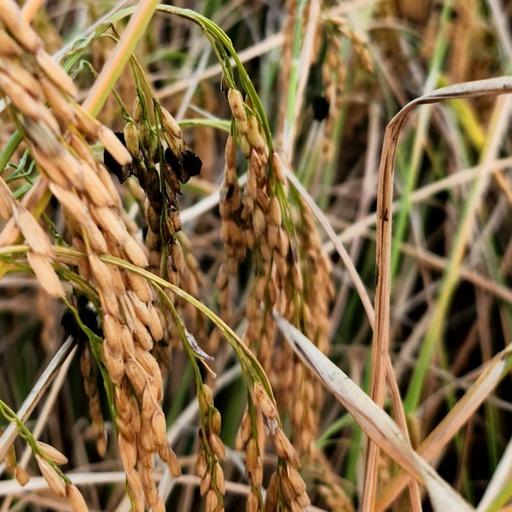Leaf_Scald: (109, 138, 215, 213)
